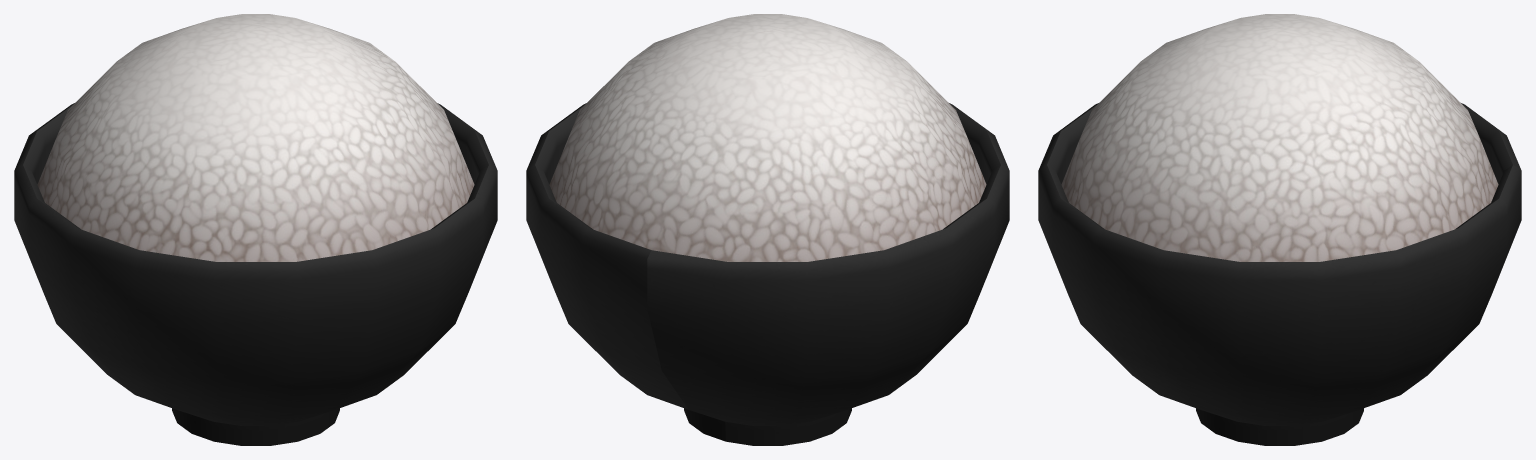
Rendered from Rice.fbx.
3 views of the same model, side by side, from view 1: azimuth 30°, elevation 25°; view 2: azimuth 150°, elevation 25°; view 3: azimuth 270°, elevation 25° (orthographic).
Parts seen in each view (by area): view 1: Rice_1; view 2: Rice_1; view 3: Rice_1.
Boxes of the visible parts, left/top/right/bottom form: Rice_1: left=14, top=14, right=497, bottom=445; Rice_1: left=526, top=14, right=1009, bottom=445; Rice_1: left=1038, top=14, right=1521, bottom=445.
Size of the model in its own units: 31.39 by 27.45 by 31.87.
1 material, 1 textured.
